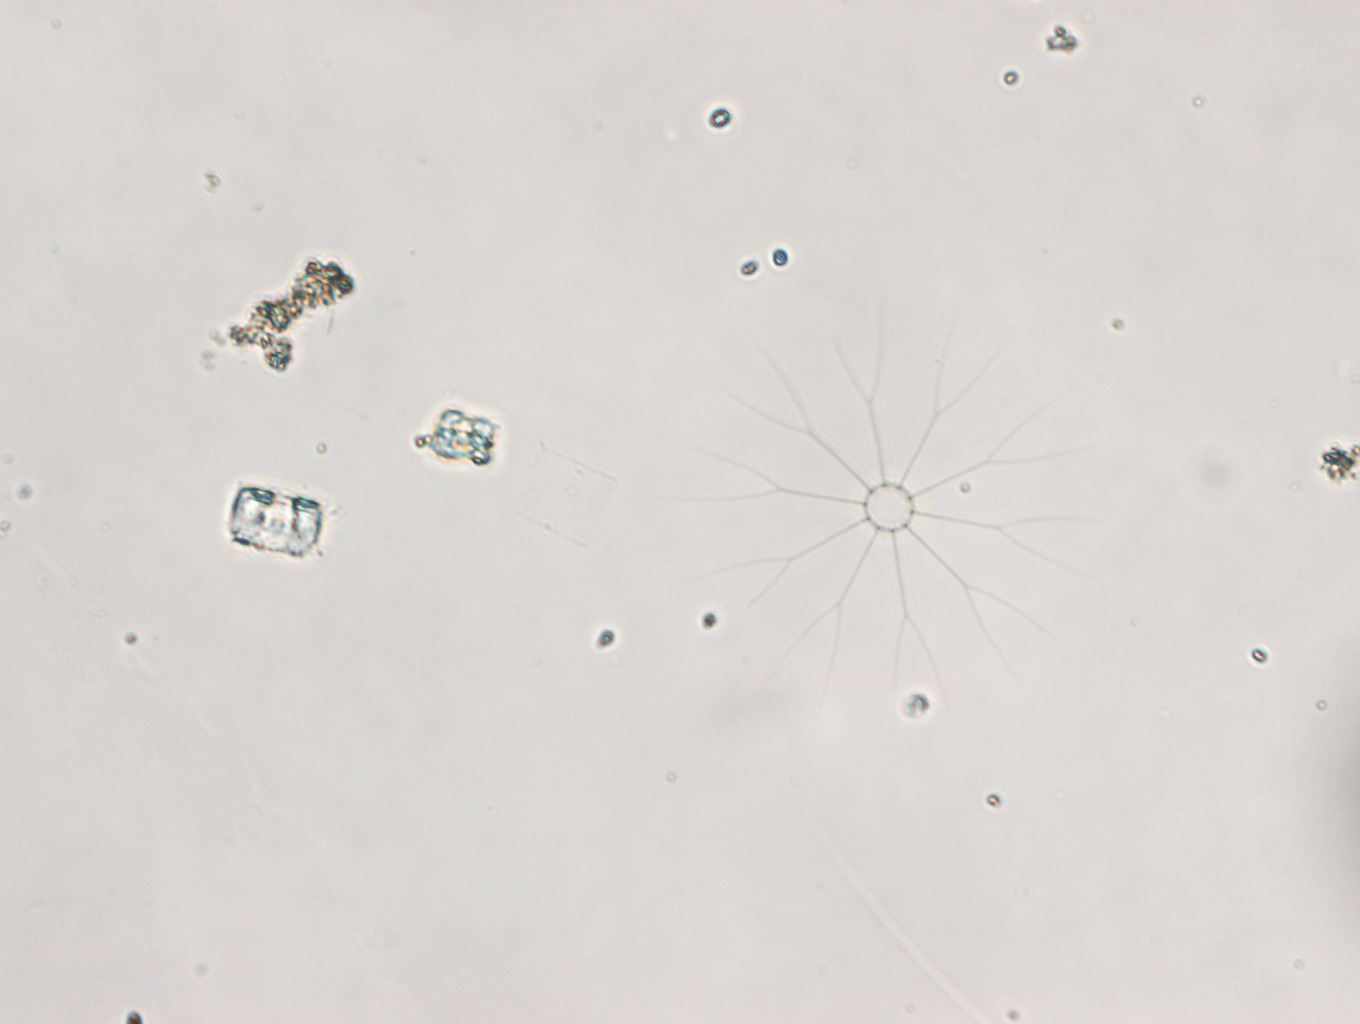bacteriastrum: (674, 301, 1105, 716)
